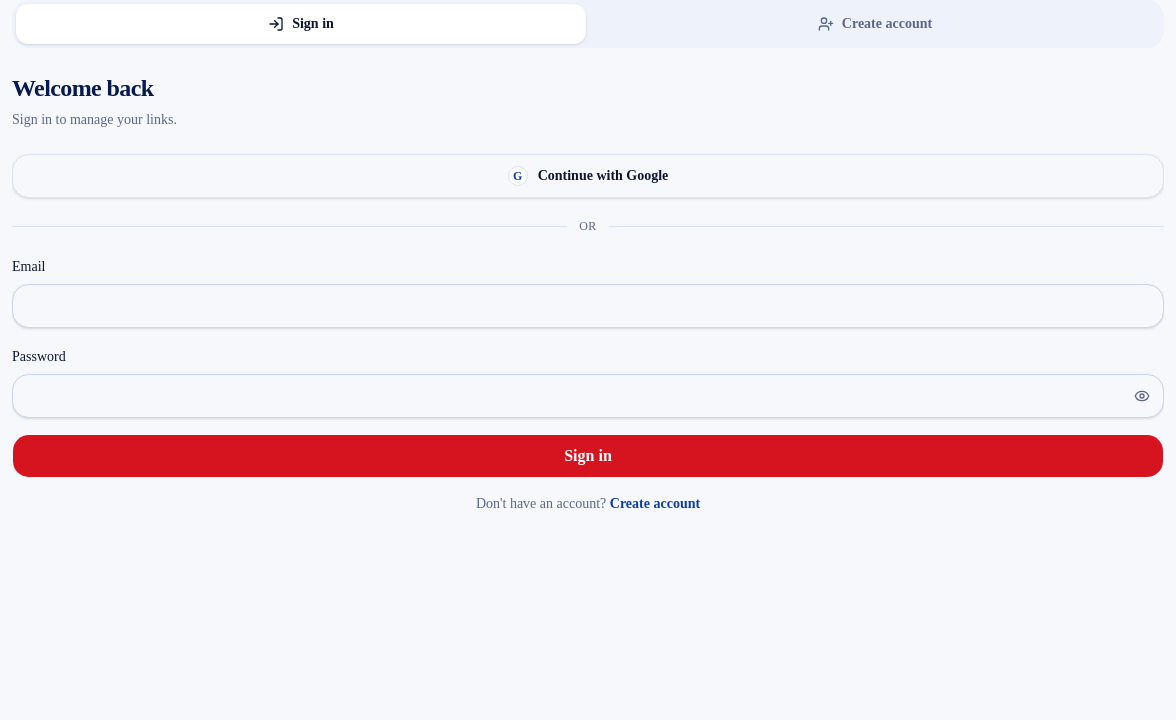
Test: LoginForm › shows the wait time on 429
Step 1. Type "ada@example.com" into the field labelled "Email" → (588, 306), box [12, 284, 1164, 328]
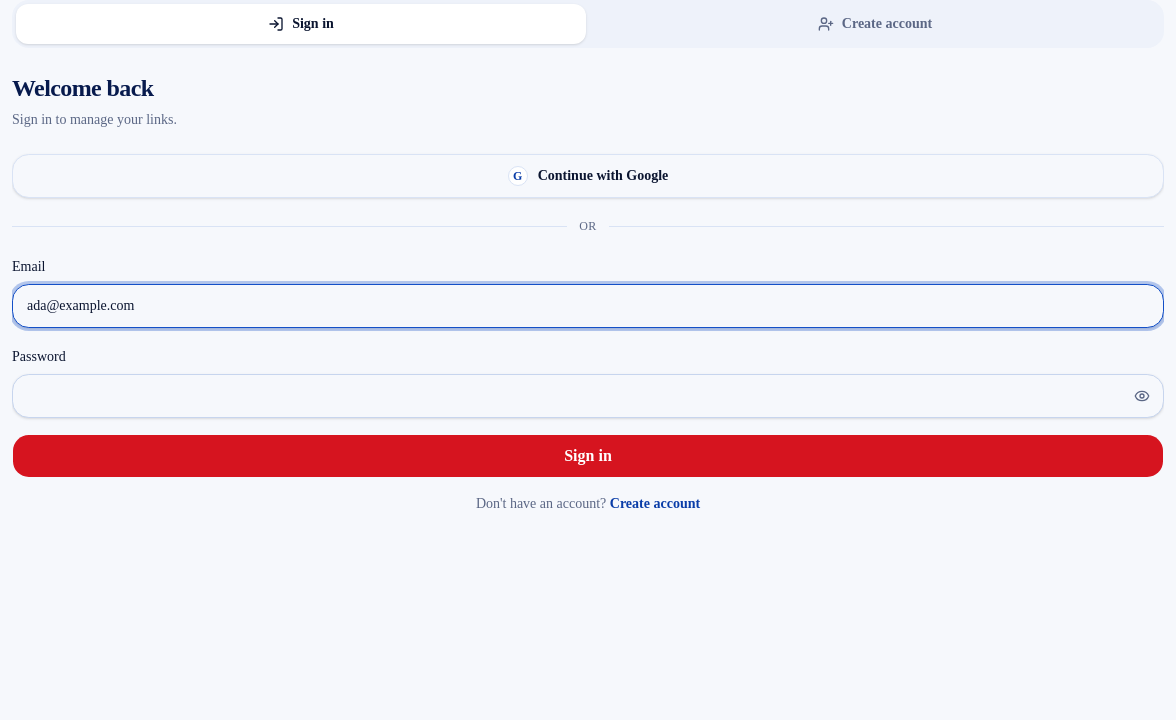
Step 2. Type "correct horse battery" into the password field labelled "Password" → (588, 396), box [12, 374, 1164, 418]
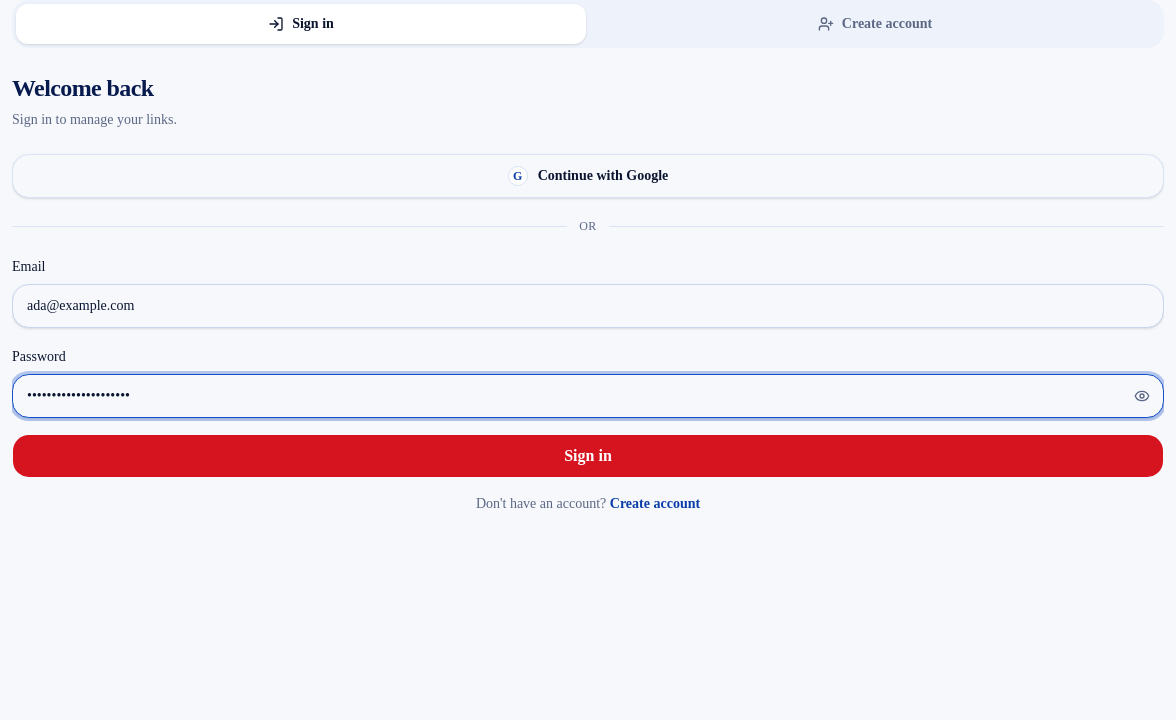
Step 3. Click the button "Sign in" → (588, 456), box [12, 434, 1164, 478]
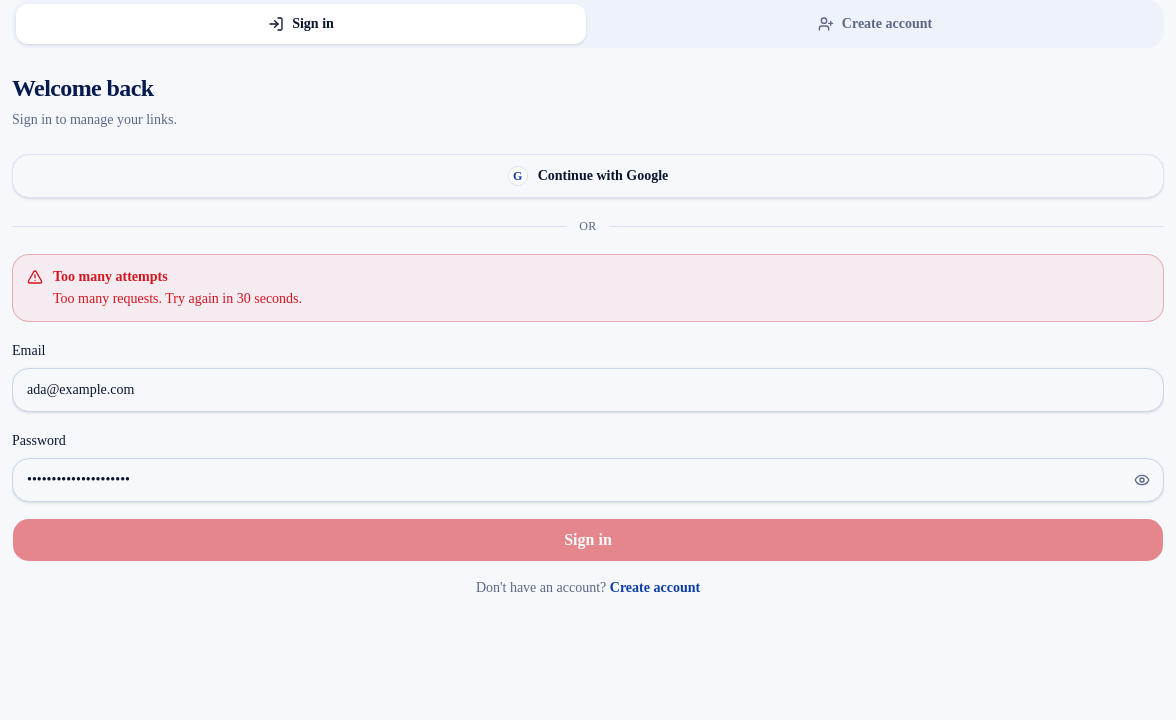
Now the message shows "Too many attempts", box [53, 269, 168, 284]
Now the message reads "Too many attempts Too many requests. Try again in 30 seconds.", box [53, 291, 302, 306]
Now the button "Sign in" is disabled, box [12, 518, 1164, 562]
